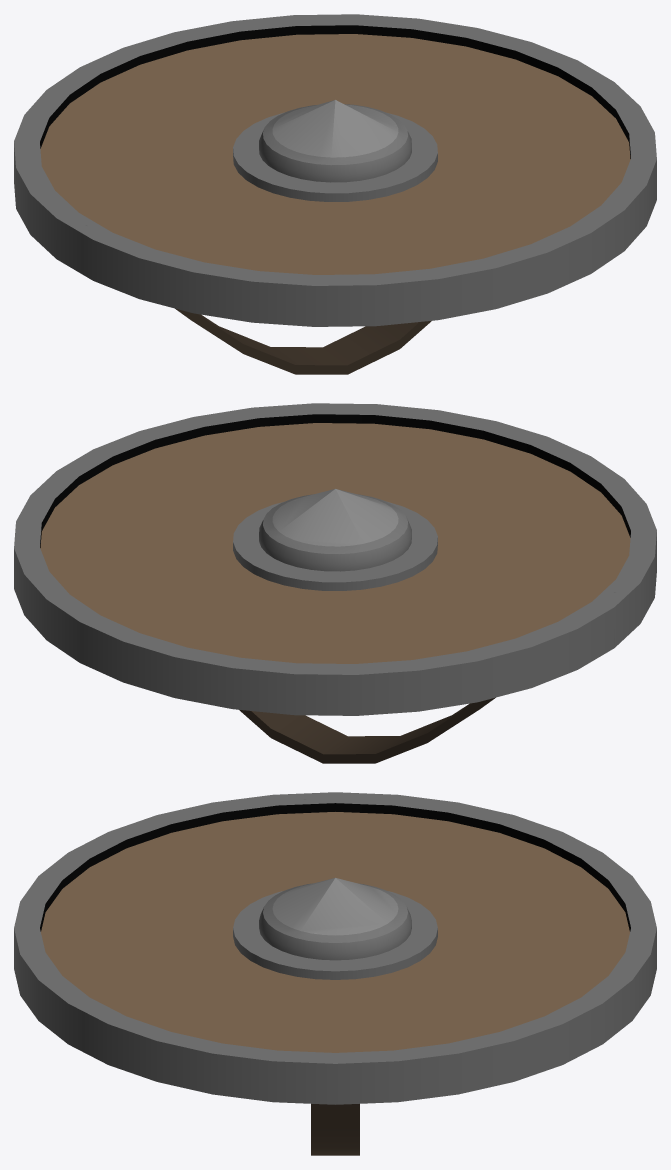
File: shield.fbx
3 renders of one model, top to bottom at view 1: azimuth 30°, elevation 25°; view 2: azimuth 150°, elevation 25°; view 3: azimuth 270°, elevation 25°, orthographic.
Parts seen in each view (by area): view 1: Cylinder; view 2: Cylinder; view 3: Cylinder.
Part boxes in pixels (x1,y1,x2,y2): Cylinder: (14,14,656,374); Cylinder: (14,403,656,763); Cylinder: (14,792,656,1155).
Size of the model in its own units: 200 by 91.06 by 200.
